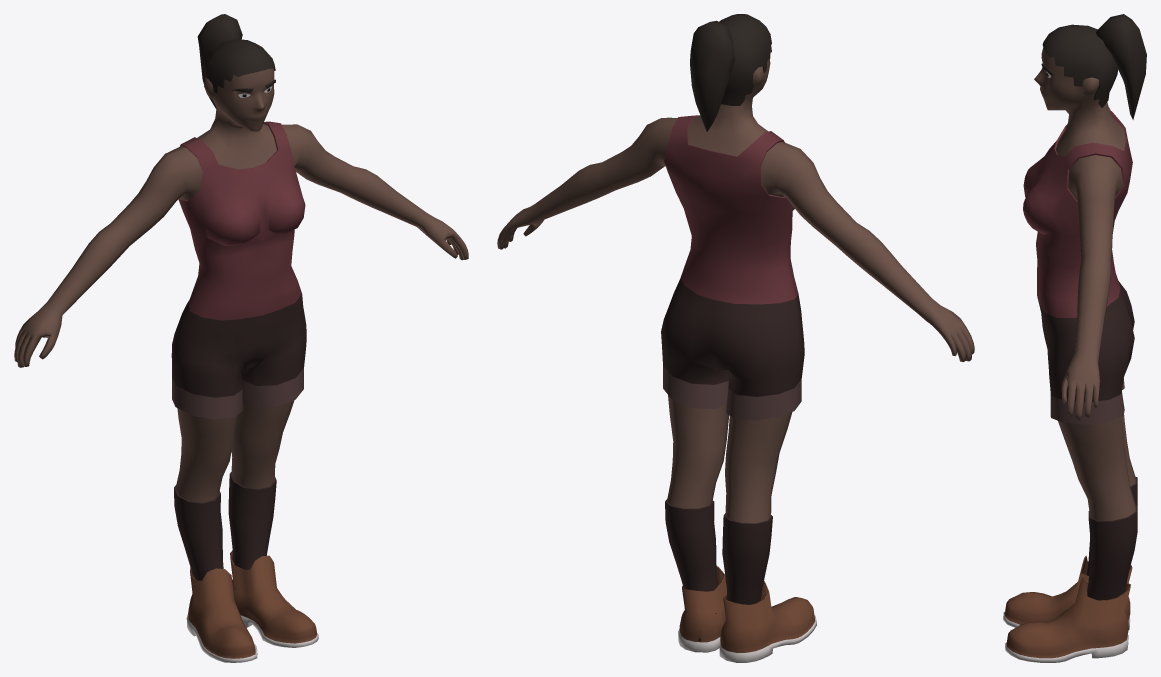
The model's file is humangirl_final_estatica.fbx.
3 views of the same model, side by side, from view 1: azimuth 30°, elevation 25°; view 2: azimuth 150°, elevation 25°; view 3: azimuth 270°, elevation 25° (orthographic). The views are drawn at different scales.
Parts seen in each view (by area): view 1: pSphere11; view 2: pSphere11; view 3: pSphere11.
Part boxes in pixels (<box>): pSphere11: <box>14,14,468,662</box>; pSphere11: <box>497,14,974,662</box>; pSphere11: <box>1003,14,1146,662</box>.
Bounding box in the file's own units: 71.06 × 91.45 × 19.18.
